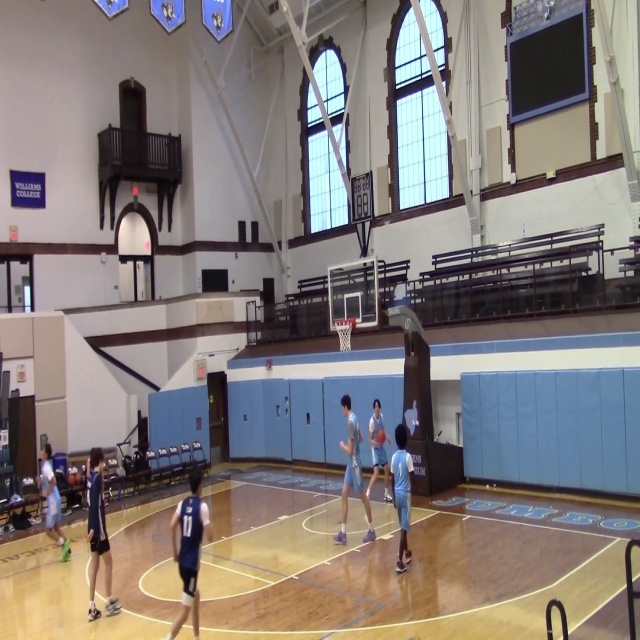Basketball: (375, 429, 386, 444)
